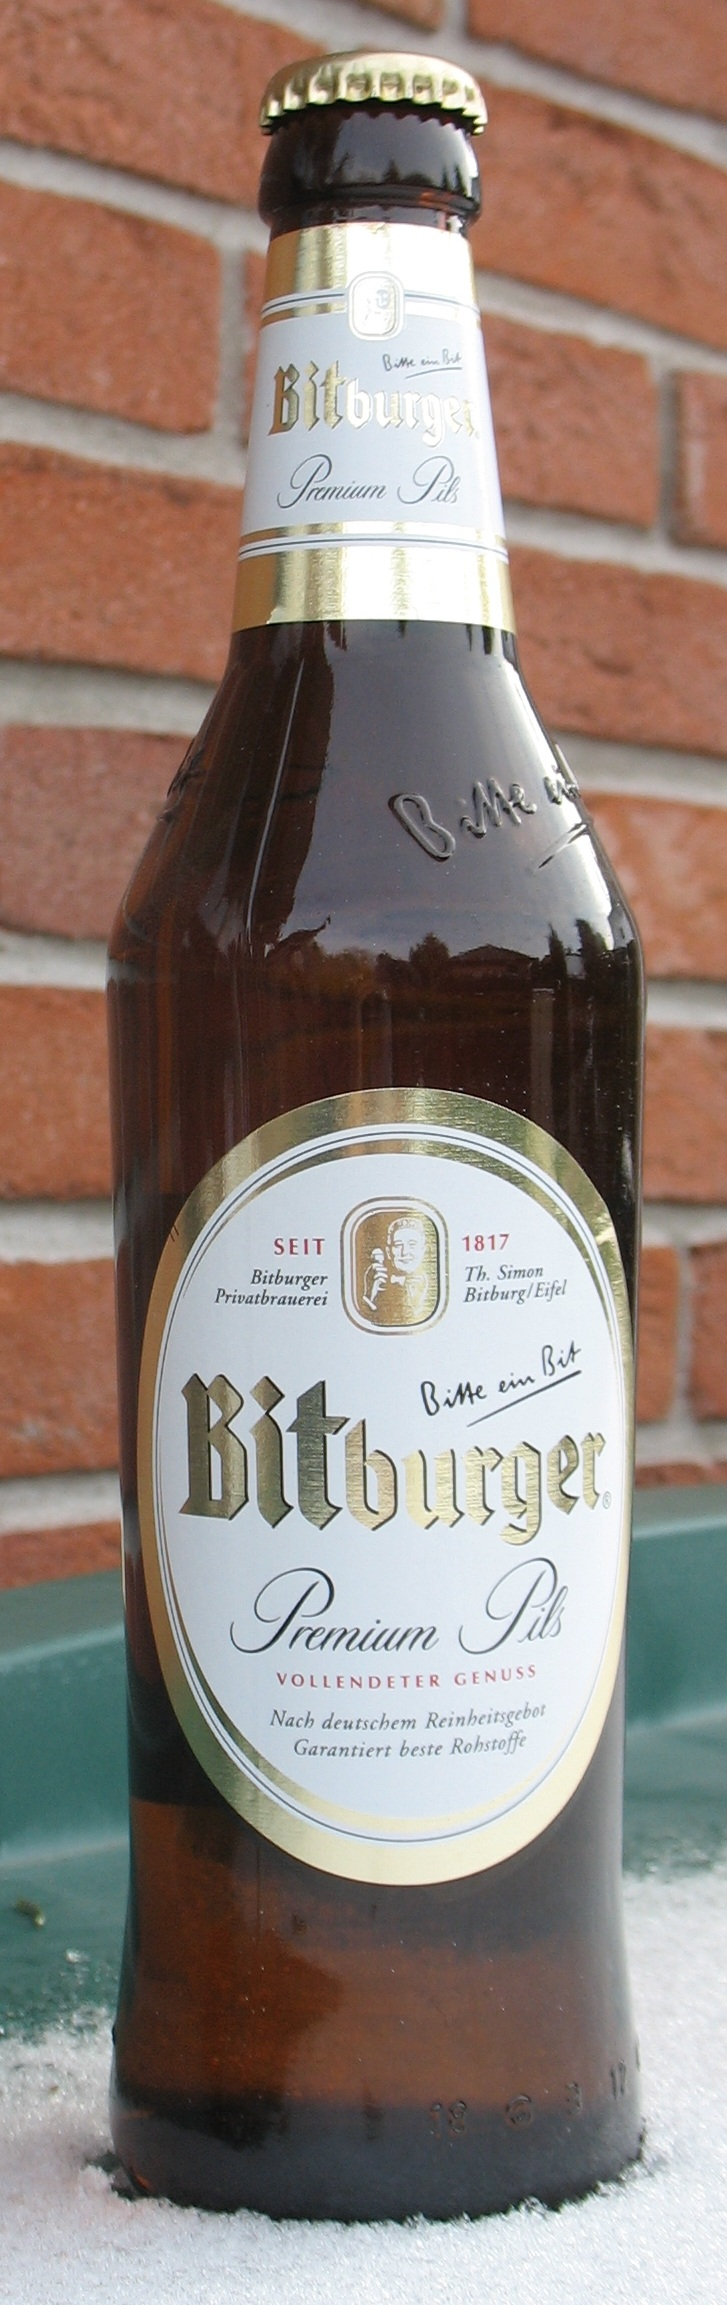glass_bottle: (75, 32, 689, 2268)
